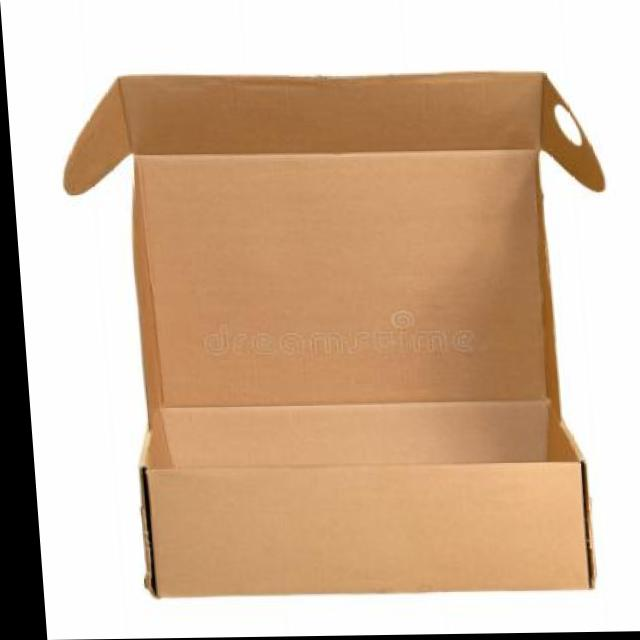box: (51, 59, 631, 599)
